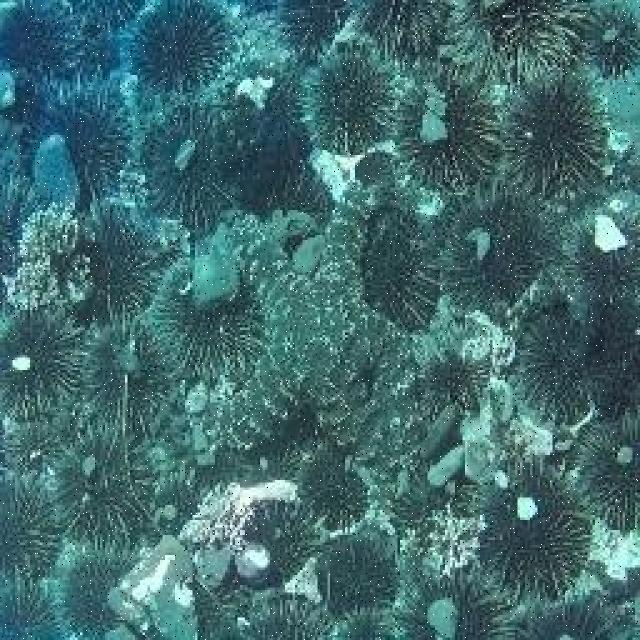reefs: (201, 184, 418, 466), (476, 455, 595, 601), (501, 63, 616, 211), (19, 68, 132, 205), (399, 60, 504, 207), (442, 184, 552, 317), (149, 270, 263, 388), (138, 104, 241, 233), (55, 428, 157, 546), (444, 0, 589, 83), (118, 0, 235, 99), (223, 62, 318, 176), (511, 300, 592, 431), (304, 41, 397, 154), (554, 187, 638, 312), (81, 314, 173, 426), (0, 0, 82, 125), (80, 200, 164, 322), (0, 301, 85, 417), (363, 210, 441, 333), (392, 566, 516, 637), (576, 410, 638, 534), (353, 1, 457, 72), (582, 295, 638, 423), (0, 472, 63, 579), (317, 534, 399, 615), (242, 503, 318, 586), (295, 449, 371, 532), (65, 547, 131, 638), (272, 0, 354, 70), (249, 153, 332, 217), (513, 591, 618, 637), (409, 353, 481, 412), (0, 572, 62, 638), (586, 3, 638, 81), (241, 591, 327, 637), (0, 413, 66, 470), (331, 610, 398, 638)
